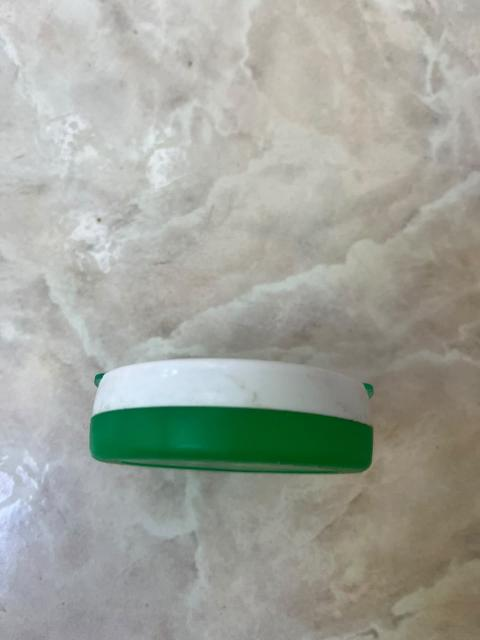HDPE: (78, 338, 404, 503)
